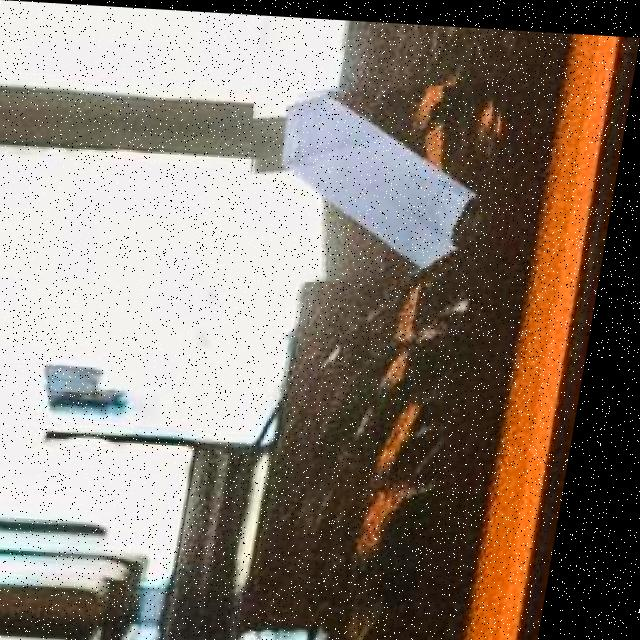plasticcover: (239, 72, 516, 286)
